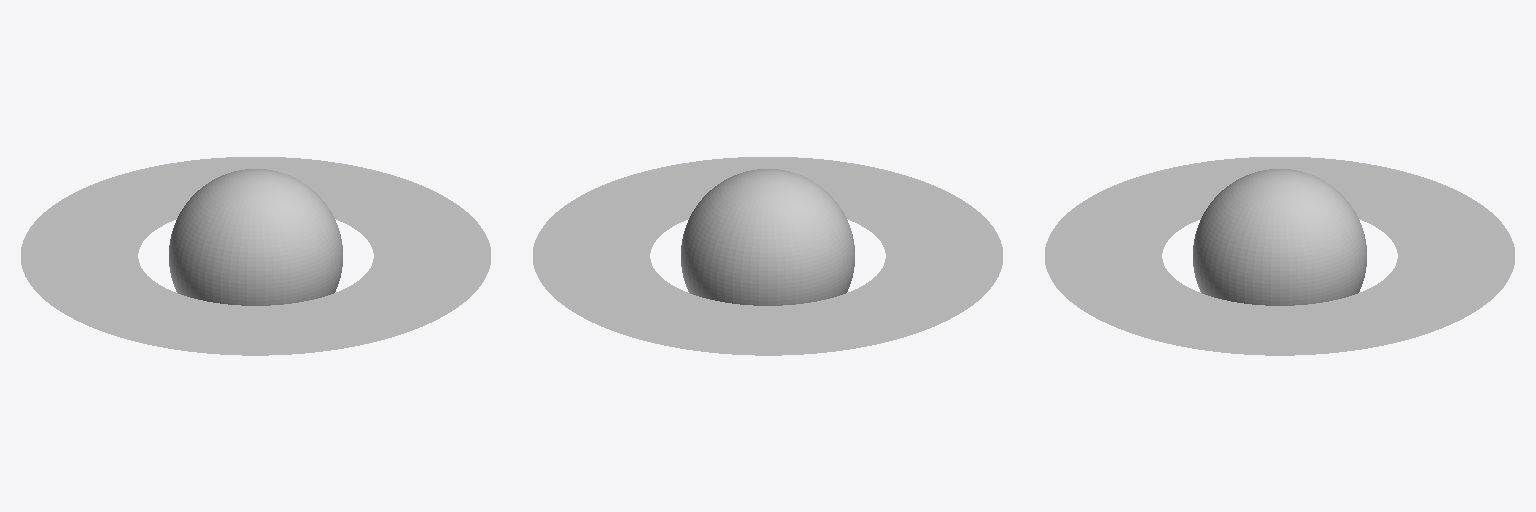
Rendered from saturn.obj.
The picture shows the model from 3 angles: view 1: azimuth 30°, elevation 25°; view 2: azimuth 150°, elevation 25°; view 3: azimuth 270°, elevation 25°; orthographic projection.
Parts seen in each view (by area): view 1: pTorus3; view 2: pTorus3; view 3: pTorus3.
Part boxes in pixels (left/top/right/bottom): pTorus3: left=21, top=157, right=490, bottom=355; pTorus3: left=533, top=157, right=1002, bottom=355; pTorus3: left=1045, top=157, right=1514, bottom=355.
Bounding box in the file's own units: 5.4 × 2 × 5.4.